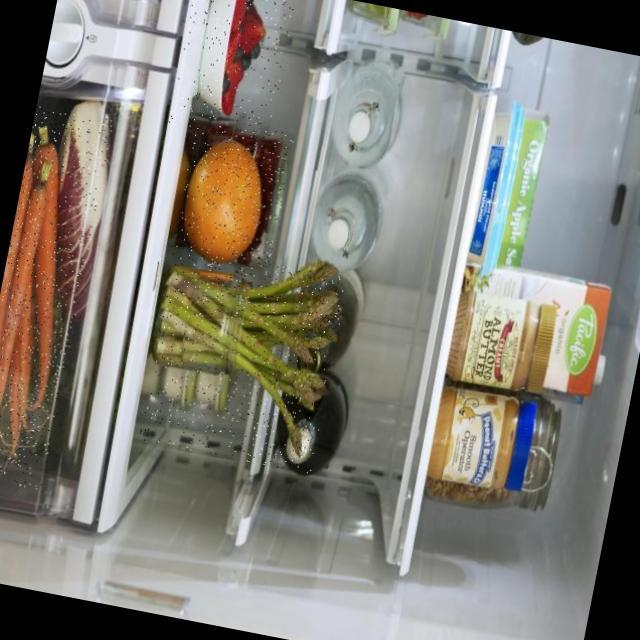Zanahoria: (0, 104, 113, 490)
asparagus: (137, 245, 348, 474)
orange: (167, 115, 295, 286)
strawberries: (167, 0, 297, 142)
